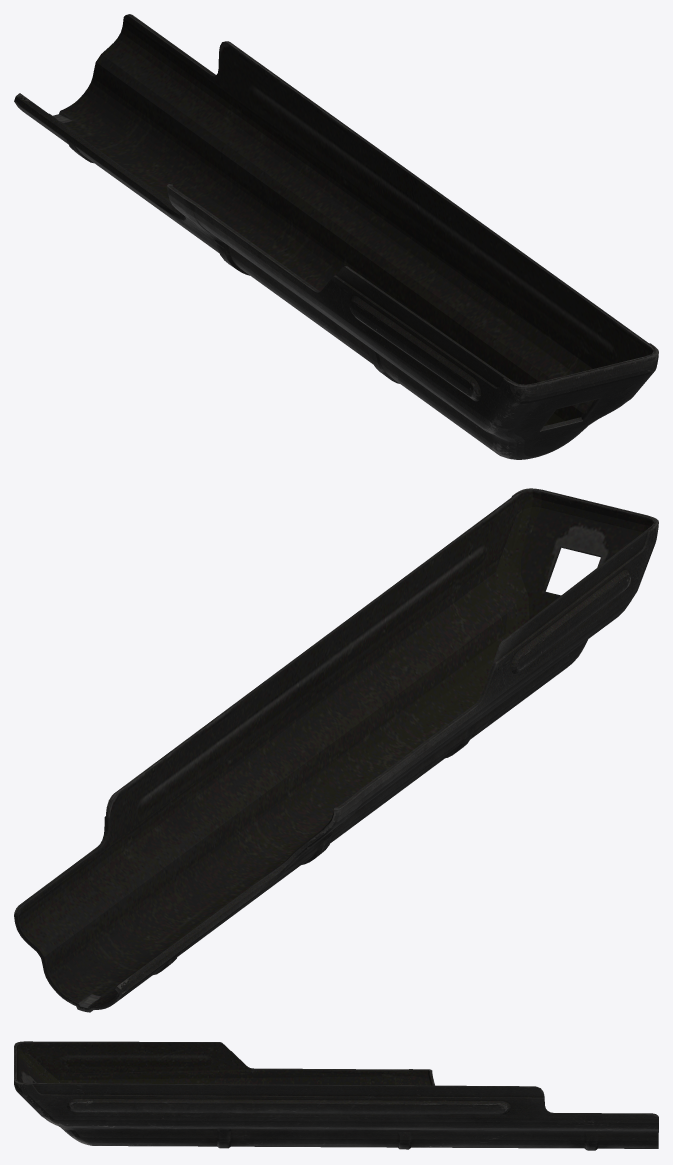
The picture shows the model from 3 angles, top to bottom: view 1: azimuth 30°, elevation 25°; view 2: azimuth 150°, elevation 25°; view 3: azimuth 270°, elevation 25°; orthographic projection. The views are drawn at different scales.
Visible parts, largest first — view 1: TW_628a665a86cbd9750d2ff5e5_PZ_Import; view 2: TW_628a665a86cbd9750d2ff5e5_PZ_Import; view 3: TW_628a665a86cbd9750d2ff5e5_PZ_Import.
Boxes of the visible parts, bbox=[...] form: TW_628a665a86cbd9750d2ff5e5_PZ_Import: bbox=[14, 14, 658, 459]; TW_628a665a86cbd9750d2ff5e5_PZ_Import: bbox=[14, 488, 658, 1012]; TW_628a665a86cbd9750d2ff5e5_PZ_Import: bbox=[14, 1041, 658, 1150].
Bounding box in the file's own units: 0.0232 × 0.137 × 0.0199.
Materials: 1 (1 with a texture image).
